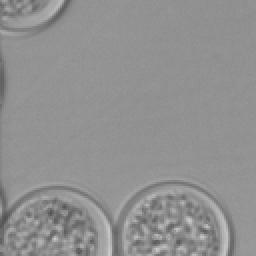picoshell: (114, 178, 232, 254), (4, 190, 112, 254)
